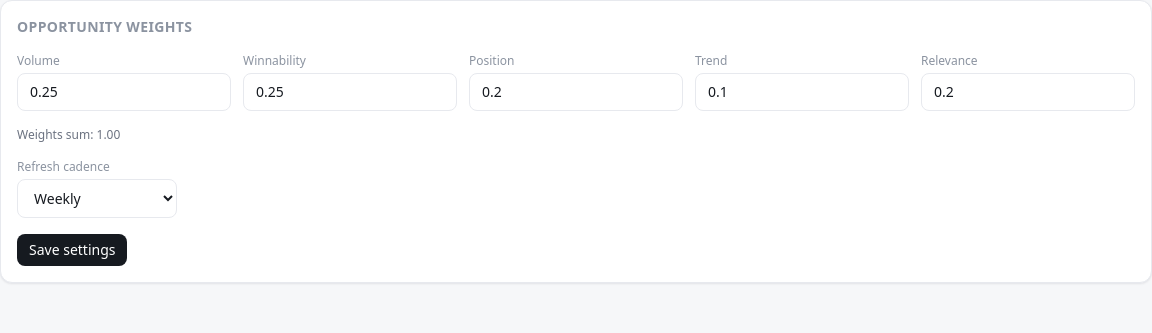
SettingsForm › shows an inline error when the save request fails (res.ok false)
Click the button "Save settings": {"x": 72, "y": 250} [17, 234, 128, 266]
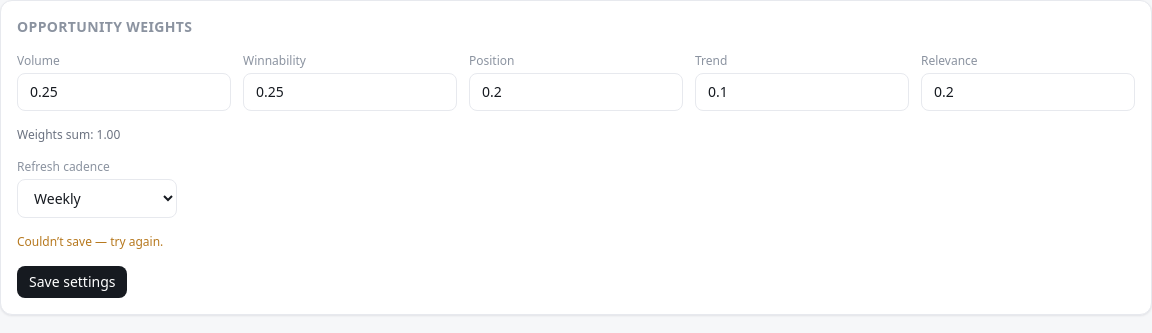
Expected: the text "Couldn’t save — try again." is shown, [17, 233, 163, 250]
